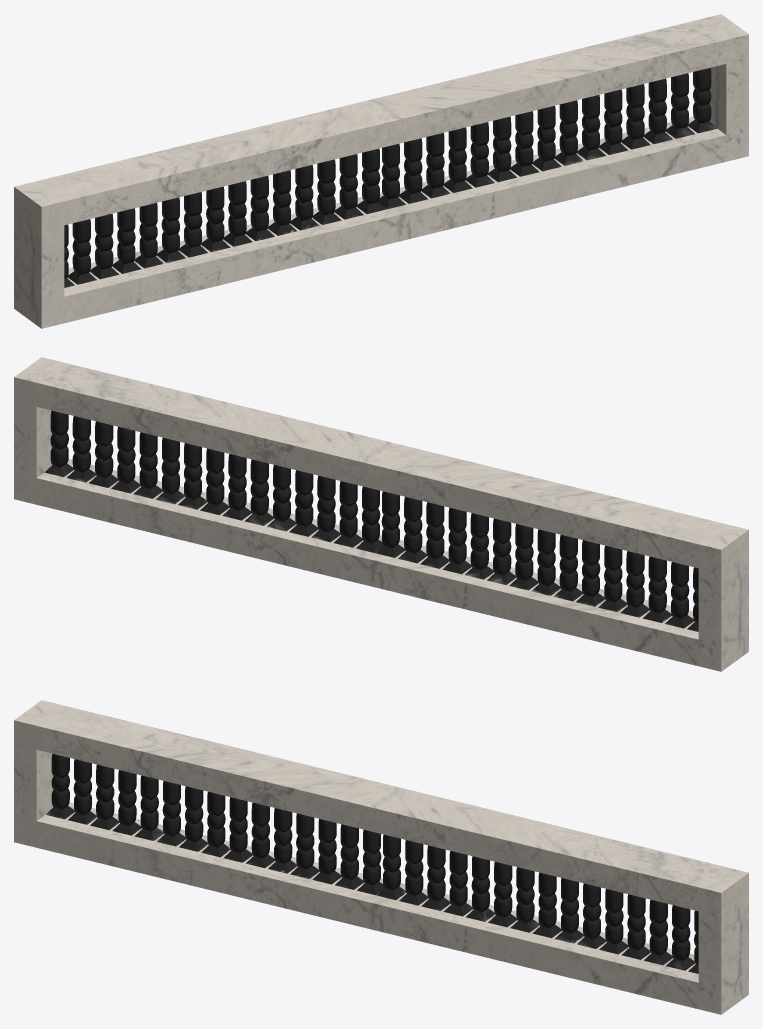
Rendered from banister_middle_with_texture.fbx.
3 renders of one model, top to bottom at view 1: azimuth 30°, elevation 25°; view 2: azimuth 150°, elevation 25°; view 3: azimuth 330°, elevation 25°, orthographic.
Parts seen in each view (by area): view 1: polySurface16, polySurface2; view 2: polySurface16, polySurface2; view 3: polySurface16, polySurface2.
Part boxes in pixels (x1,y1,x2,y2): polySurface16: (14, 14, 748, 328); polySurface2: (64, 67, 716, 287); polySurface16: (14, 357, 748, 671); polySurface2: (44, 410, 698, 631); polySurface16: (14, 700, 748, 1014); polySurface2: (46, 753, 698, 973).
Bounding box in the file's own units: 14.8 × 2.44 × 1.
2 materials, 2 textured.
